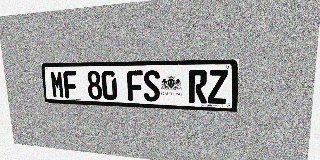0: (101, 70, 117, 100)
8: (87, 71, 102, 100)
F: (127, 70, 144, 101), (63, 71, 78, 99)
M: (50, 71, 65, 98)
R: (189, 70, 207, 104)
S: (143, 70, 160, 102)
Z: (208, 70, 228, 104)
